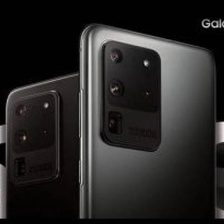phone: (76, 19, 221, 224), (2, 63, 127, 223)
